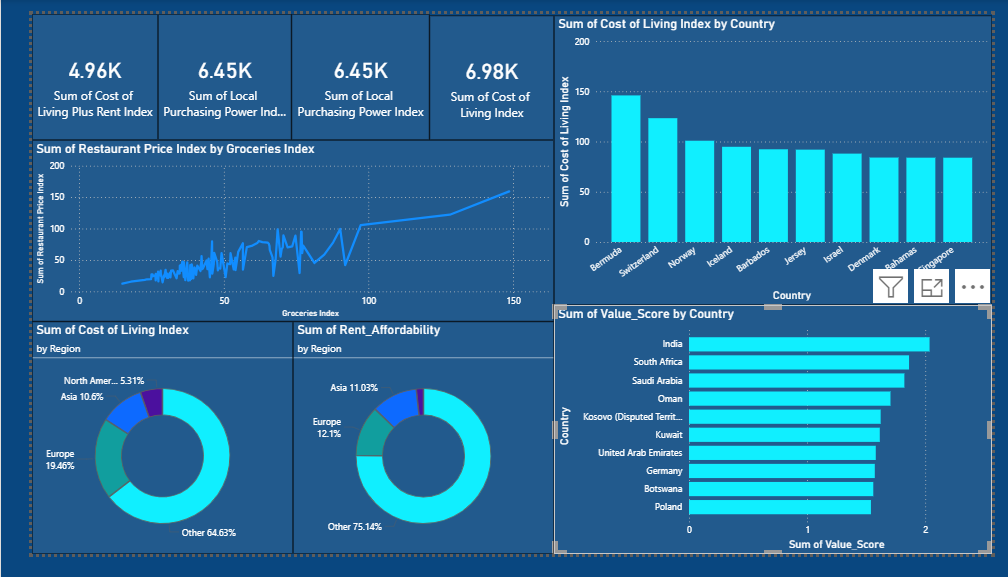

What the dashboard file says about the page in this screenshot:
{"tool":"powerbi","page":{"name":"Page 1","canvas":[1280,720],"ordinal":0},"visuals":[{"type":"columnChart","fields":{"Category":["Cost_of_Living_Index_2022.Country"],"Y":["Sum(Cost_of_Living_Index_2022.Cost of Living Index)"]},"box":[696,2,584,386],"z":0},{"type":"donutChart","fields":{"Category":["cleaned_data.Region"],"Y":["Sum(cleaned_data.Cost of Living Index)"]},"box":[0,410,348,310],"z":1000},{"type":"clusteredBarChart","fields":{"Category":["cleaned_data.Country"],"Y":["Sum(cleaned_data.Value_Score)"]},"box":[696,388,584,332],"z":2000},{"type":"lineChart","fields":{"Category":["cleaned_data.Groceries Index"],"Y":["Sum(cleaned_data.Restaurant Price Index)"]},"box":[0,168,696,242],"z":3000},{"type":"card","fields":{"Values":["Sum(cleaned_data.Cost of Living Index)"]},"box":[530,2,166,166],"z":4000},{"type":"card","fields":{"Values":["Sum(cleaned_data.Cost of Living Plus Rent Index)"]},"box":[0,0,168,168],"z":4001},{"type":"card","fields":{"Values":["Sum(cleaned_data.Local Purchasing Power Index)"]},"box":[168,0,178,168],"z":4002},{"type":"card","fields":{"Values":["Sum(cleaned_data.Local Purchasing Power Index)"]},"box":[346,0,184,168],"z":4003},{"type":"donutChart","fields":{"Category":["cleaned_data.Region"],"Y":["Sum(cleaned_data.Rent_Affordability)"]},"box":[348,410,348,310],"z":4004}]}

Visuals, with their boxes in screenshot pixels (x1, y1, x2, y2), scaled from the page's 1280x720 canvas onto the 1008x577 screenshot:
columnChart - Cost_of_Living_Index_2022.Country x Sum(Cost_of_Living_Index_2022.Cost of Living Index): [548, 2, 1007, 311]
donutChart - cleaned_data.Region x Sum(cleaned_data.Cost of Living Index): [0, 329, 274, 576]
clusteredBarChart - cleaned_data.Country x Sum(cleaned_data.Value_Score): [548, 311, 1007, 576]
lineChart - cleaned_data.Groceries Index x Sum(cleaned_data.Restaurant Price Index): [0, 135, 548, 329]
card - Sum(cleaned_data.Cost of Living Index): [417, 2, 548, 135]
card - Sum(cleaned_data.Cost of Living Plus Rent Index): [0, 0, 132, 135]
card - Sum(cleaned_data.Local Purchasing Power Index): [132, 0, 272, 135]
card - Sum(cleaned_data.Local Purchasing Power Index): [272, 0, 417, 135]
donutChart - cleaned_data.Region x Sum(cleaned_data.Rent_Affordability): [274, 329, 548, 576]
